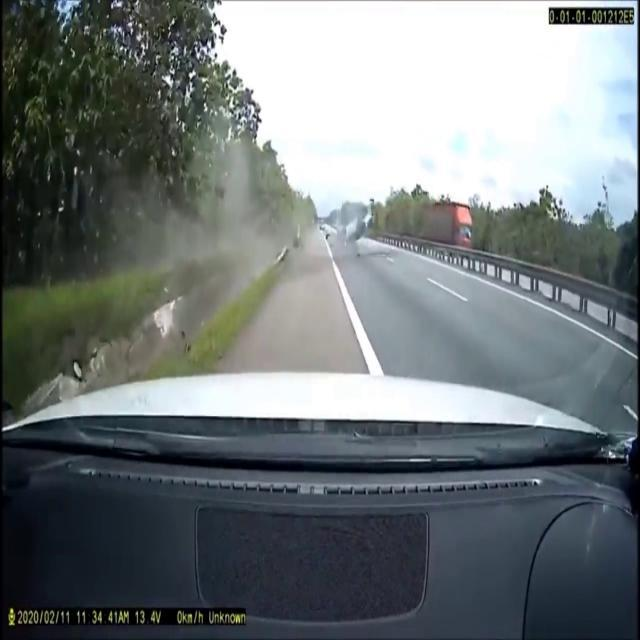accident: (336, 201, 376, 247)
